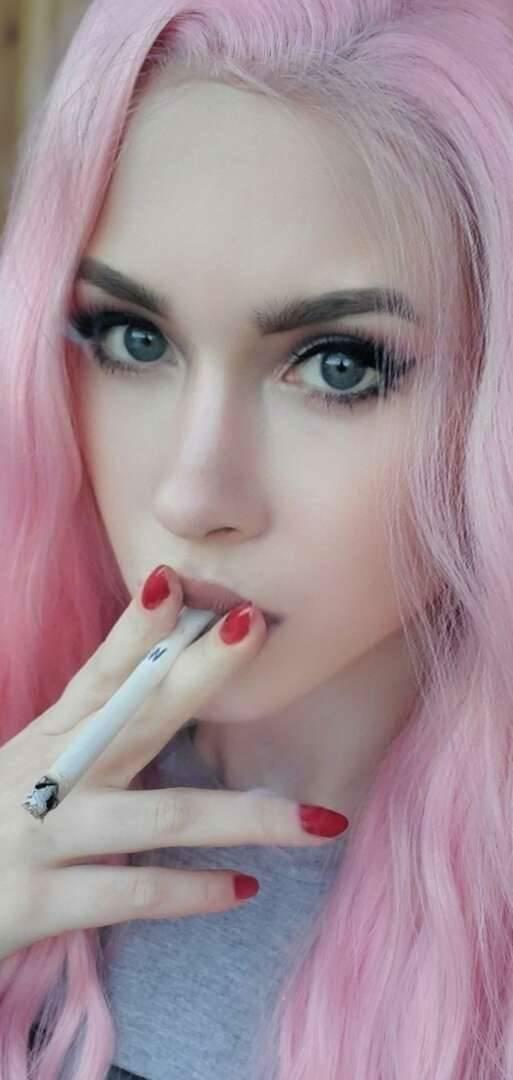cigarette: (23, 604, 213, 821)
